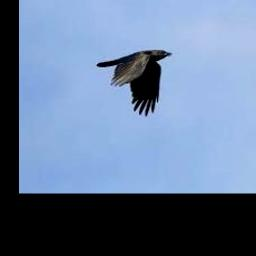Crow: (97, 50, 173, 116)
